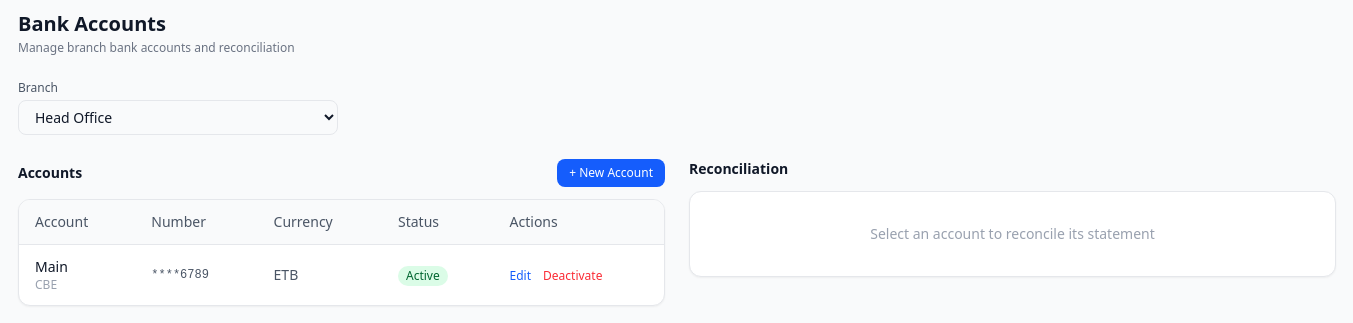
the branch › can be picked by staff with access to all branches, starting on the session's
The width and height of the screenshot is (1353, 323).
Select "Piassa" in the dropdown labelled "Branch" at (178,118), box [18, 100, 338, 135]
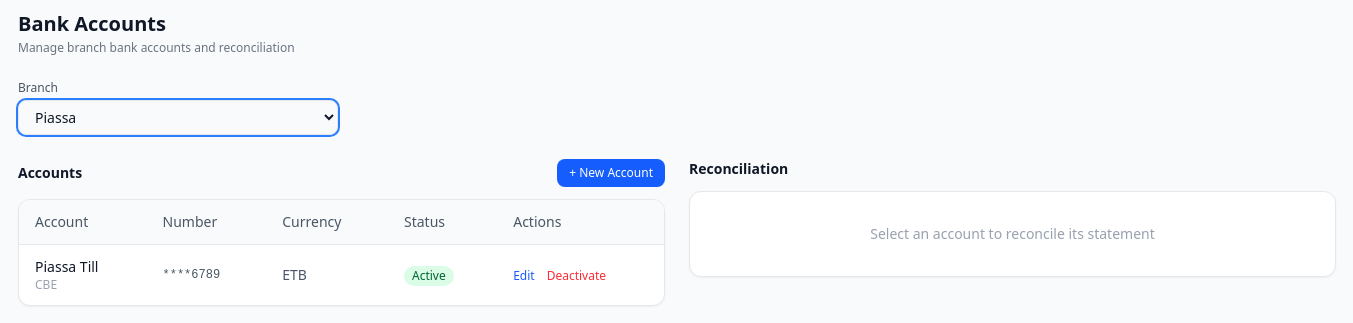
Result: the text "Piassa Till" is shown at [35, 257, 98, 276]
